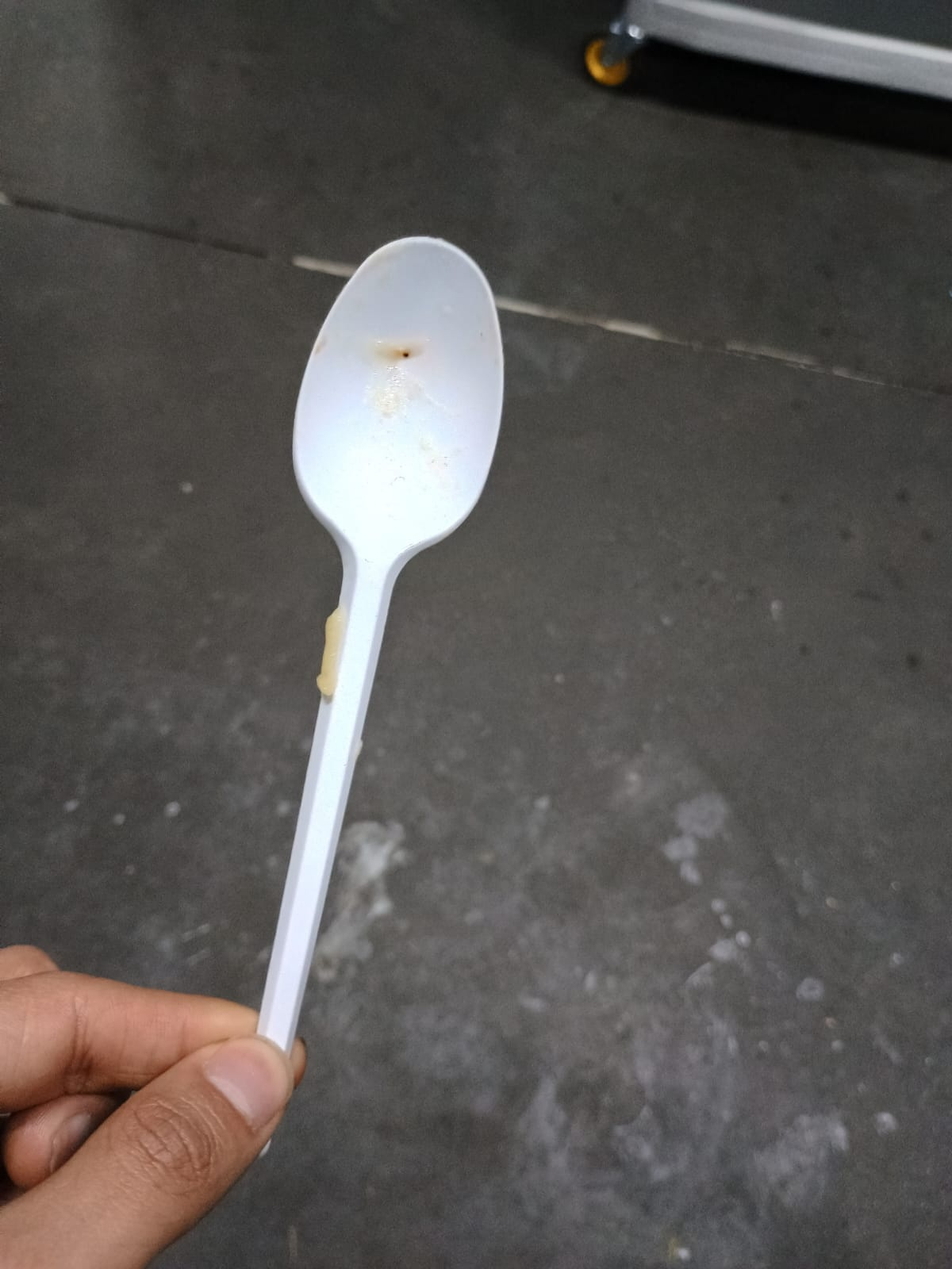Ordinario: (255, 237, 503, 1055)
